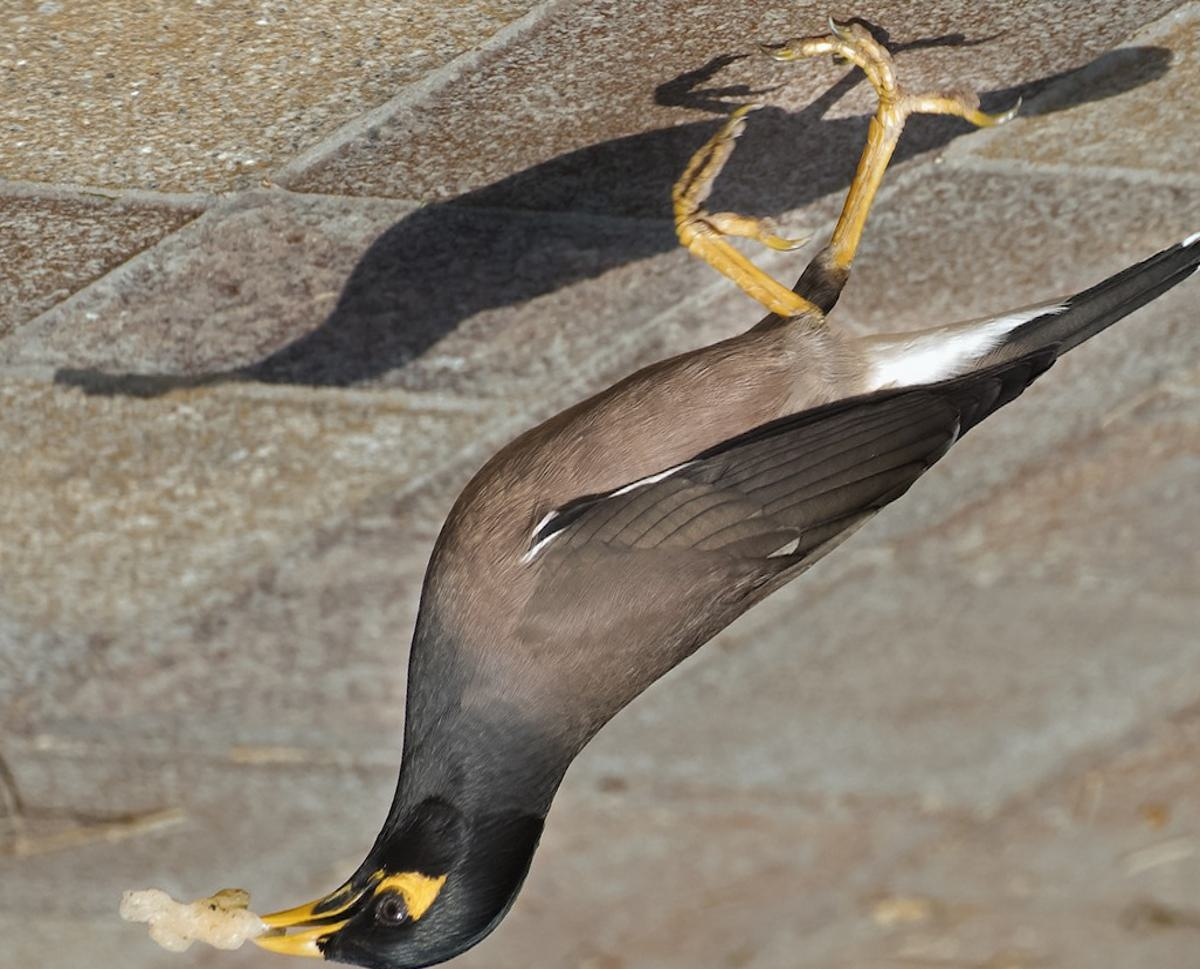myna: (209, 139, 1120, 964)
